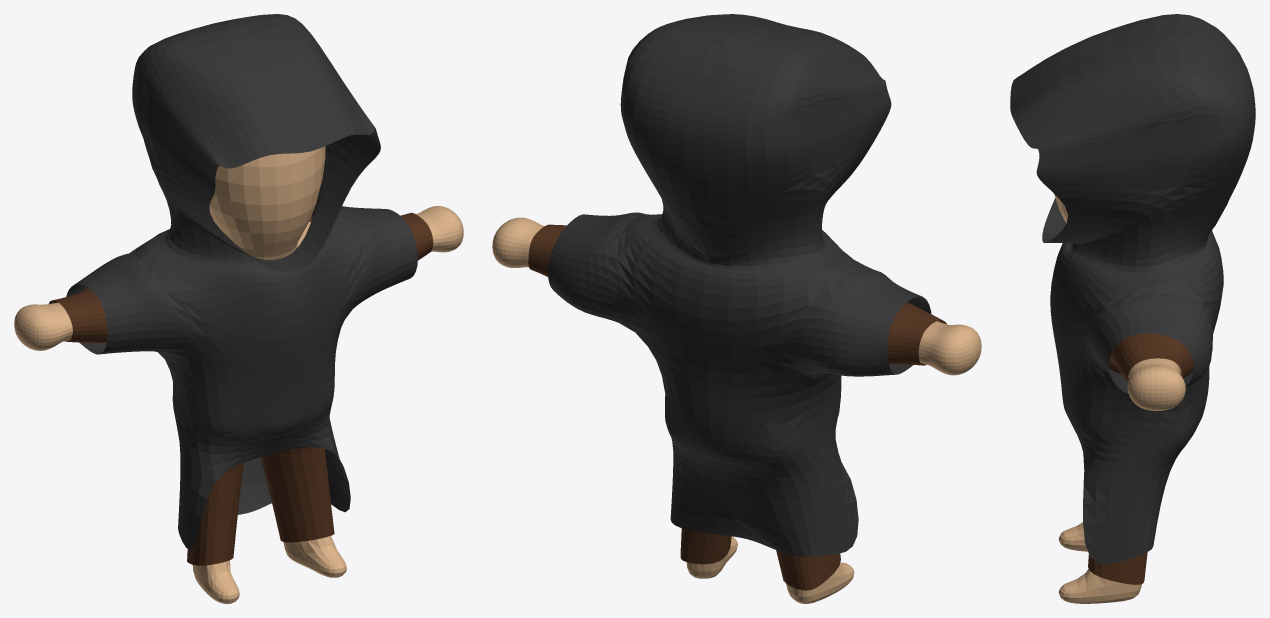
Rendered from Thief.fbx.
3 renders of one model, left to right at view 1: azimuth 30°, elevation 25°; view 2: azimuth 150°, elevation 25°; view 3: azimuth 270°, elevation 25°, orthographic. The views are drawn at different scales.
Visible parts, largest first — view 1: Layer 01, Object_1; view 2: Layer 01, Object_1; view 3: Layer 01, Object_1.
Boxes of the visible parts, left/top/right/bottom form: Layer 01: left=49, top=14, right=433, bottom=565; Object_1: left=14, top=146, right=463, bottom=603; Layer 01: left=528, top=14, right=946, bottom=590; Object_1: left=492, top=217, right=981, bottom=603; Layer 01: left=1010, top=14, right=1255, bottom=584; Object_1: left=1054, top=194, right=1185, bottom=603.
Bounding box in the file's own units: 654 × 310 × 750.
